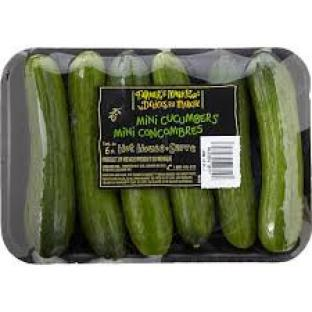Cucumber: (68, 52, 126, 259), (247, 50, 303, 252), (25, 55, 74, 257), (208, 55, 256, 248), (121, 189, 173, 255), (170, 188, 214, 246)
